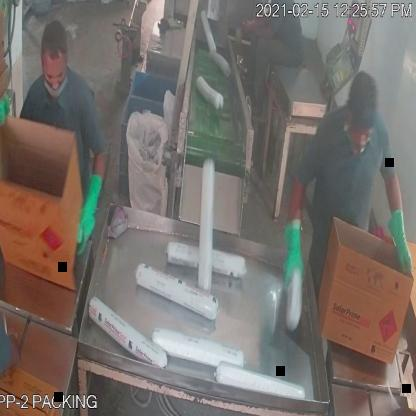glove: (72, 161, 106, 256), (279, 213, 304, 298), (387, 207, 415, 277)
no_glove: (239, 18, 275, 44)
